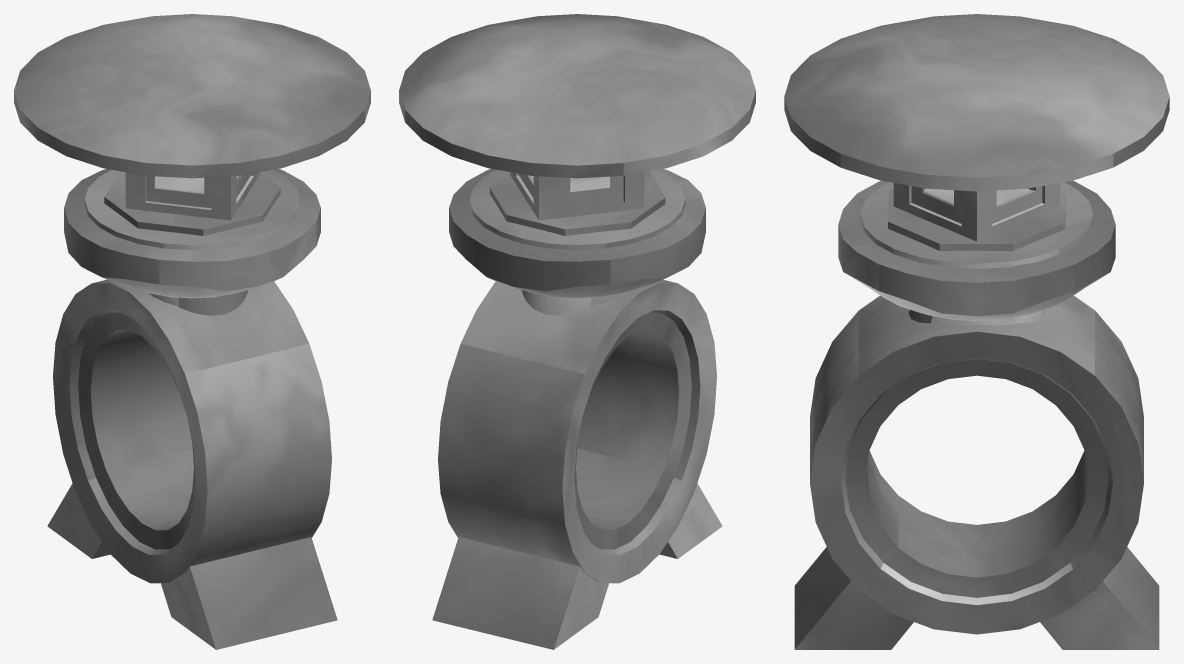
File: SM_decorative_stone.fbx
The picture shows the model from 3 angles, left to right: view 1: azimuth 30°, elevation 25°; view 2: azimuth 150°, elevation 25°; view 3: azimuth 270°, elevation 25°; orthographic projection. The views are drawn at different scales.
Parts seen in each view (by area): view 1: SM_decorative_stone; view 2: SM_decorative_stone; view 3: SM_decorative_stone.
Boxes of the visible parts, bbox=[...] form: SM_decorative_stone: bbox=[14, 14, 370, 649]; SM_decorative_stone: bbox=[399, 14, 755, 649]; SM_decorative_stone: bbox=[784, 14, 1169, 649].
Size of the model in its own units: 53.52 by 53.52 by 84.1.
Materials: 1 (1 with a texture image).
